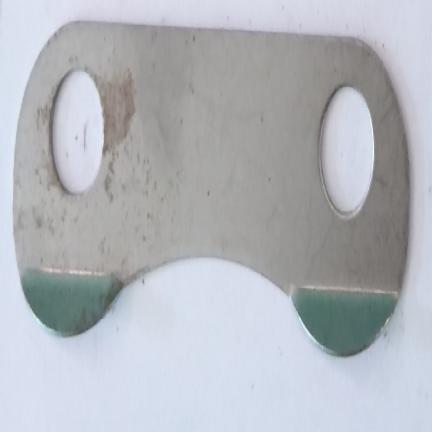karat: (91, 63, 134, 158)
